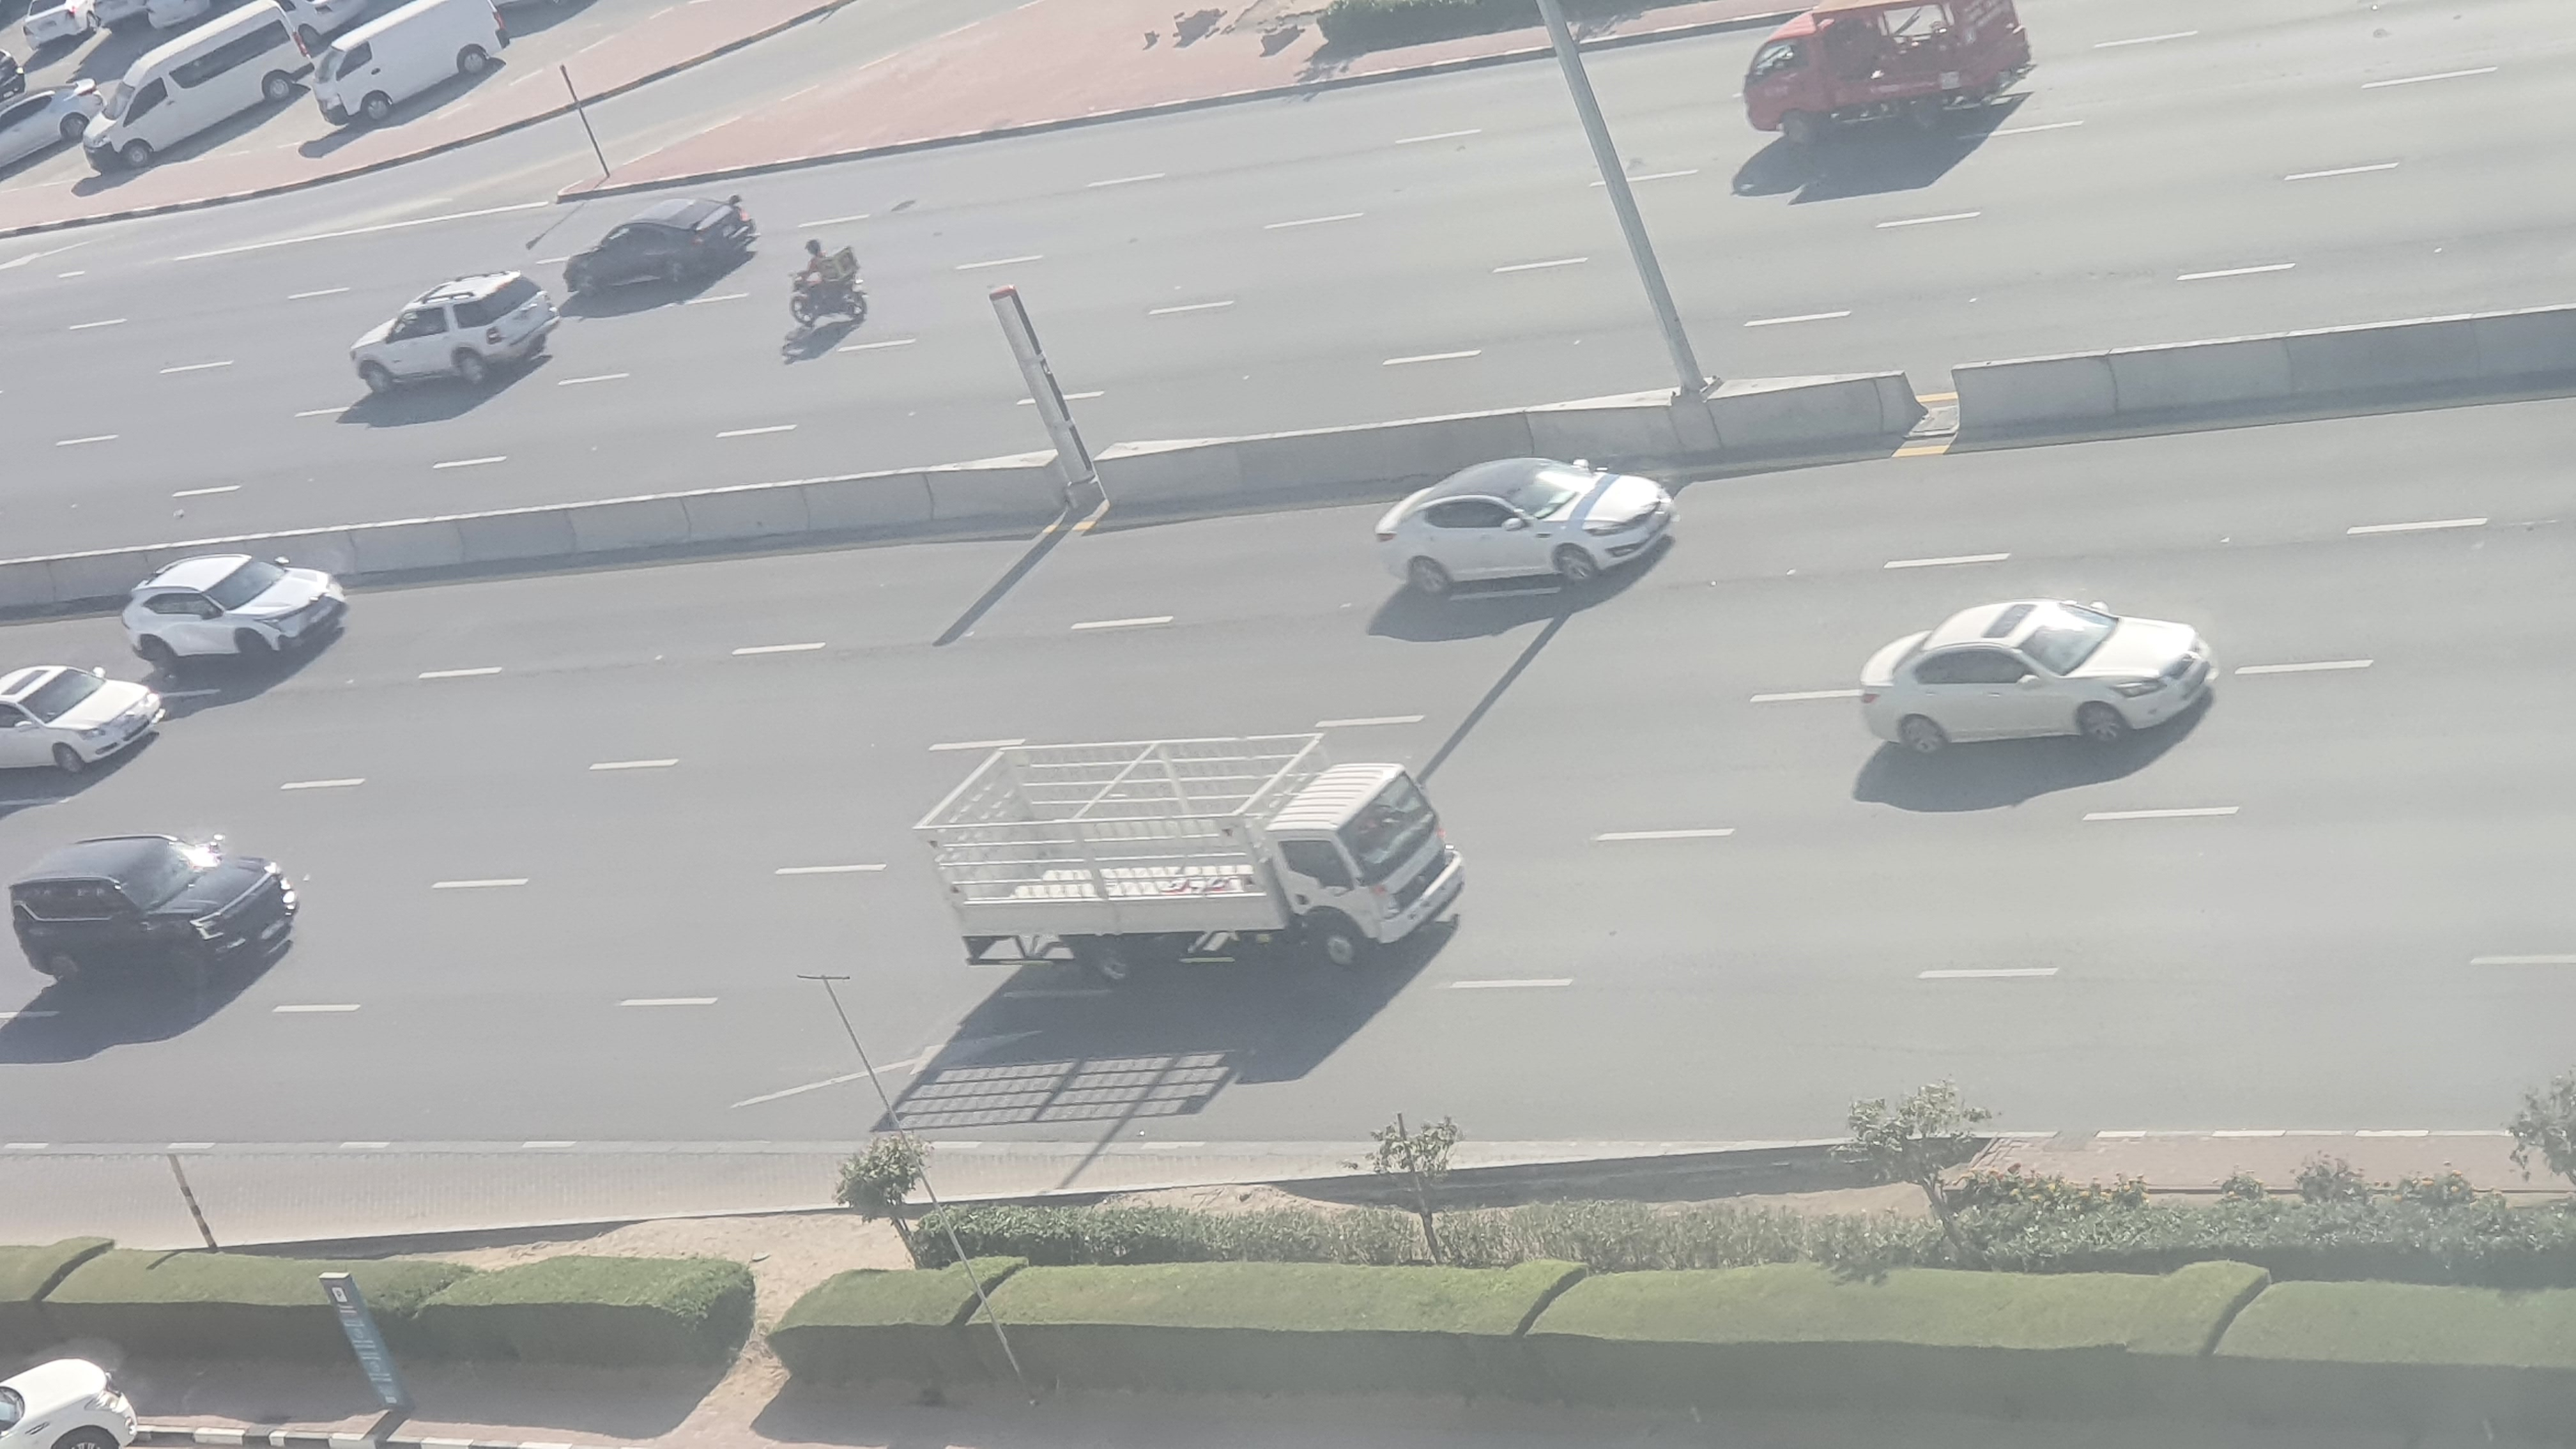NotSunroof: (11, 832, 294, 980), (124, 554, 350, 667)
Sunroof: (1856, 594, 2229, 759), (1366, 456, 1684, 594), (0, 662, 168, 768)
